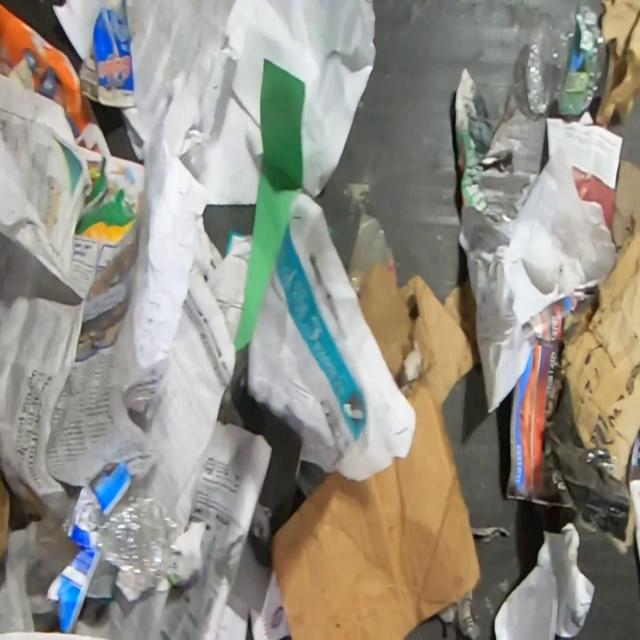cardboard: (269, 260, 484, 640), (543, 156, 640, 482), (0, 2, 112, 156), (454, 65, 546, 223), (592, 0, 640, 131), (78, 4, 137, 108), (0, 468, 13, 564)
rigid_plastic: (523, 0, 609, 118), (91, 488, 185, 595), (25, 493, 82, 583)
soft_plastic: (346, 208, 399, 296)
